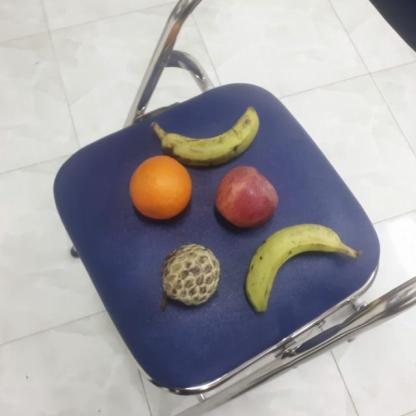annona: (156, 240, 224, 309)
apple: (211, 164, 280, 226)
banana: (244, 219, 344, 315), (155, 107, 264, 166)
orange: (127, 152, 191, 224)
